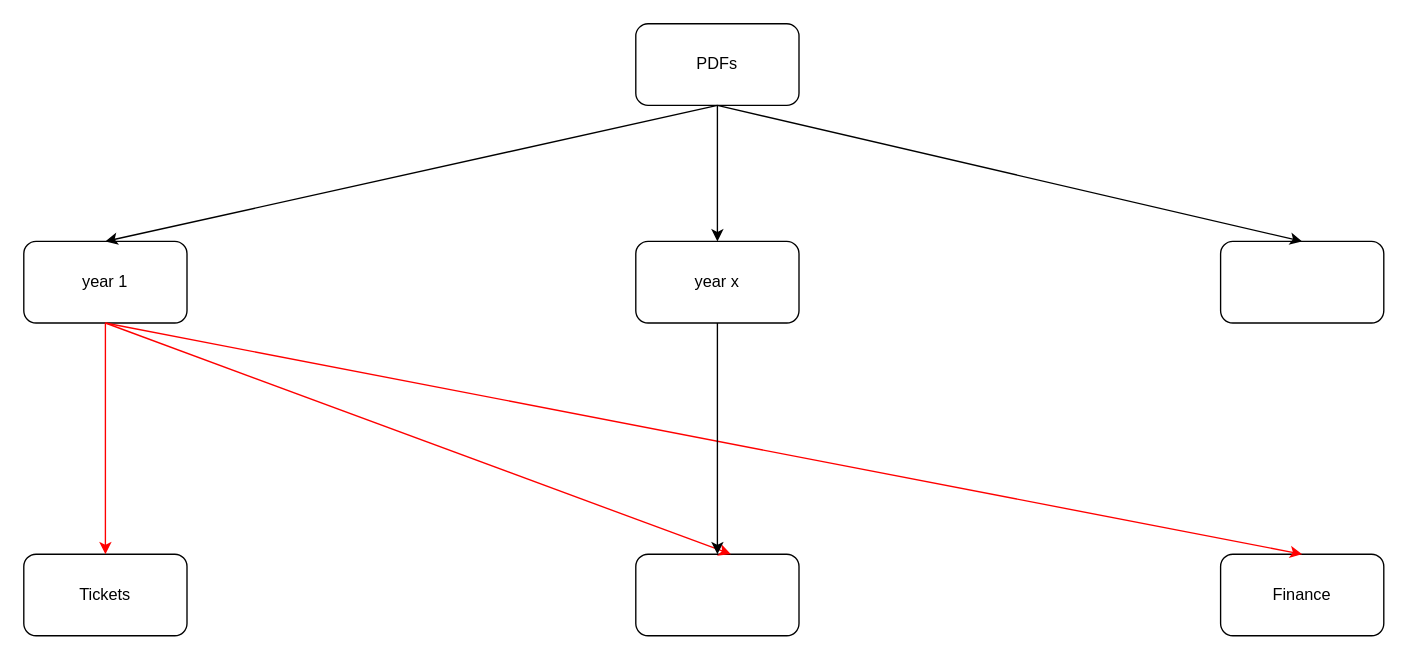
This 1408x660 diagram has some shape labels left out. Each missing label, with the centre of its shape:
"Animals" goes at (x=716, y=594).
"year n" goes at (x=1301, y=281).
